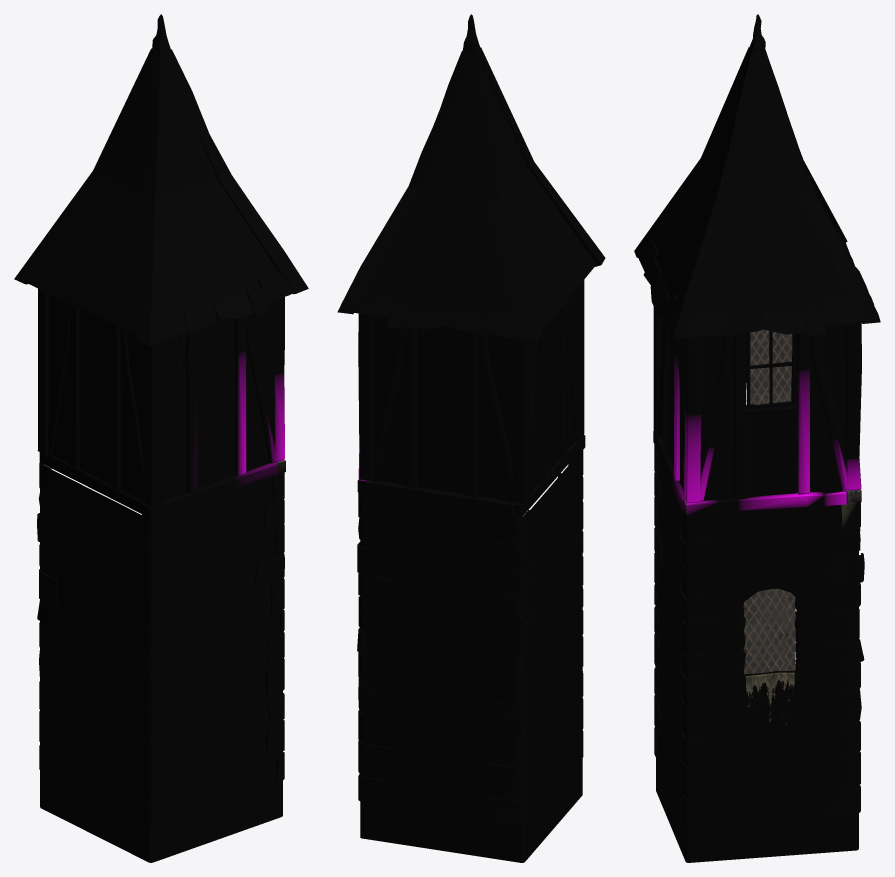
Rendered from House_Six.glb.
3 views of the same model, side by side, from view 1: azimuth 30°, elevation 25°; view 2: azimuth 150°, elevation 25°; view 3: azimuth 270°, elevation 25° (orthographic).
Parts seen in each view (by area): view 1: SM_House_Six; view 2: SM_House_Six; view 3: SM_House_Six.
Part boxes in pixels (x1=…): SM_House_Six: x1=14, y1=14, x2=308, y2=862; SM_House_Six: x1=337, y1=14, x2=605, y2=862; SM_House_Six: x1=634, y1=14, x2=880, y2=862.
Bounding box in the file's own units: 4.64 × 16.73 × 4.64.
Materials: 7 (4 with a texture image).
